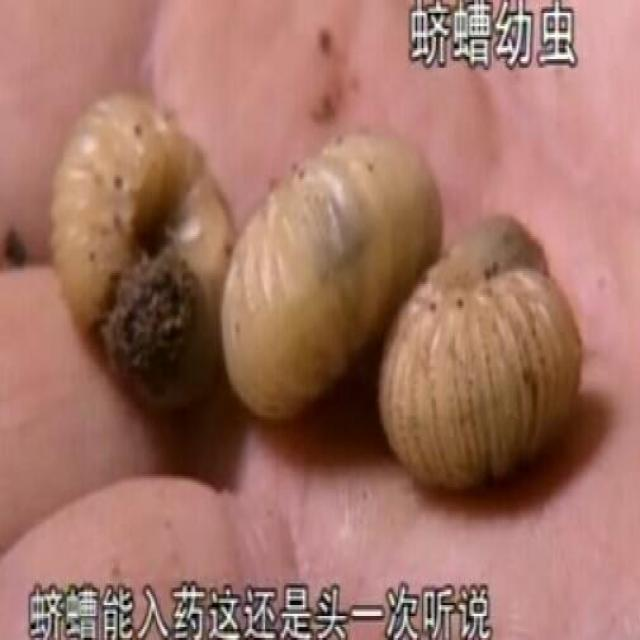Grub-Adult-: (211, 89, 446, 446), (390, 178, 606, 530), (48, 68, 245, 410)
